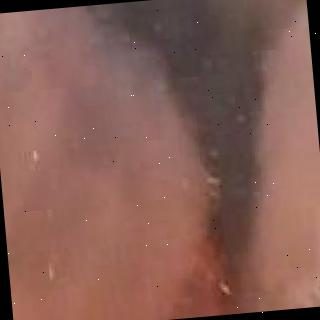fire: (172, 207, 276, 319)
